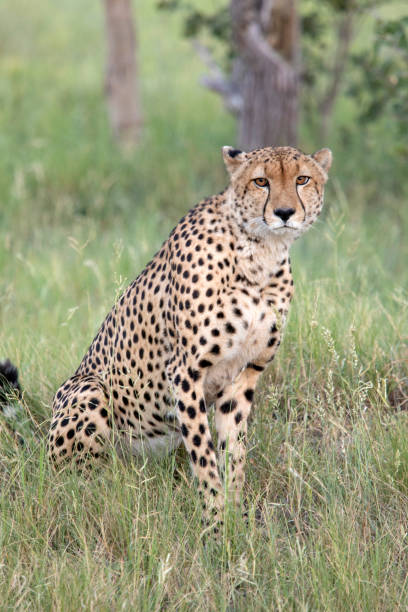cheetah: (218, 126, 337, 250)
